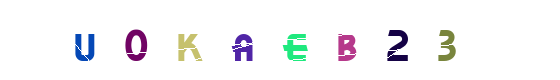0: (154, 0, 234, 80)
2: (358, 0, 438, 80)
3: (407, 0, 487, 80)
A: (240, 0, 320, 80)
B: (285, 0, 365, 80)
E: (255, 0, 335, 80)
K: (175, 0, 255, 80)
U: (45, 0, 125, 80)
